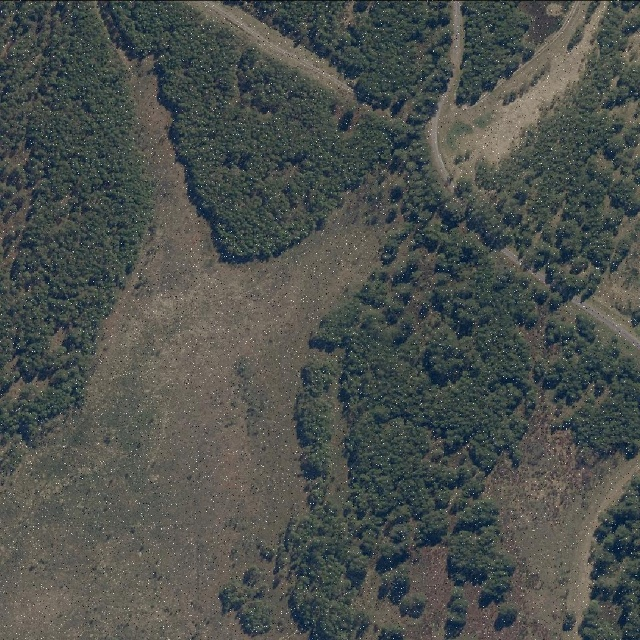vegetation: (217, 0, 640, 638), (105, 2, 411, 257), (1, 2, 153, 476), (235, 1, 454, 128), (578, 474, 640, 640), (455, 2, 536, 102)
